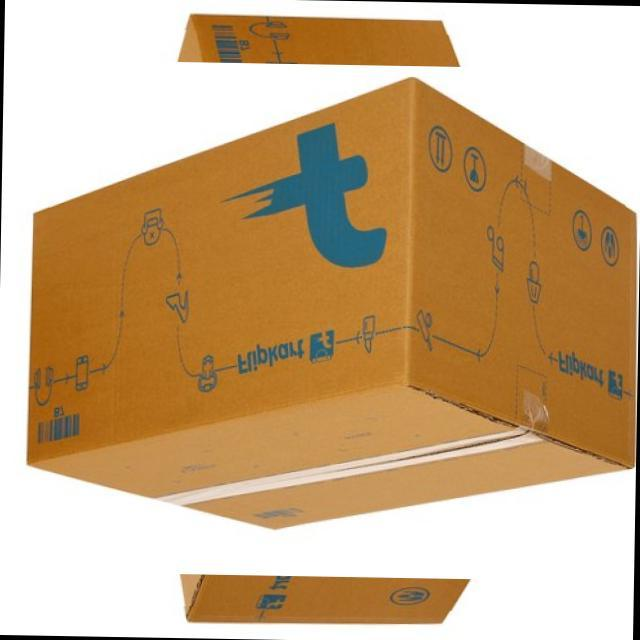cardboxes: (25, 74, 640, 531)
